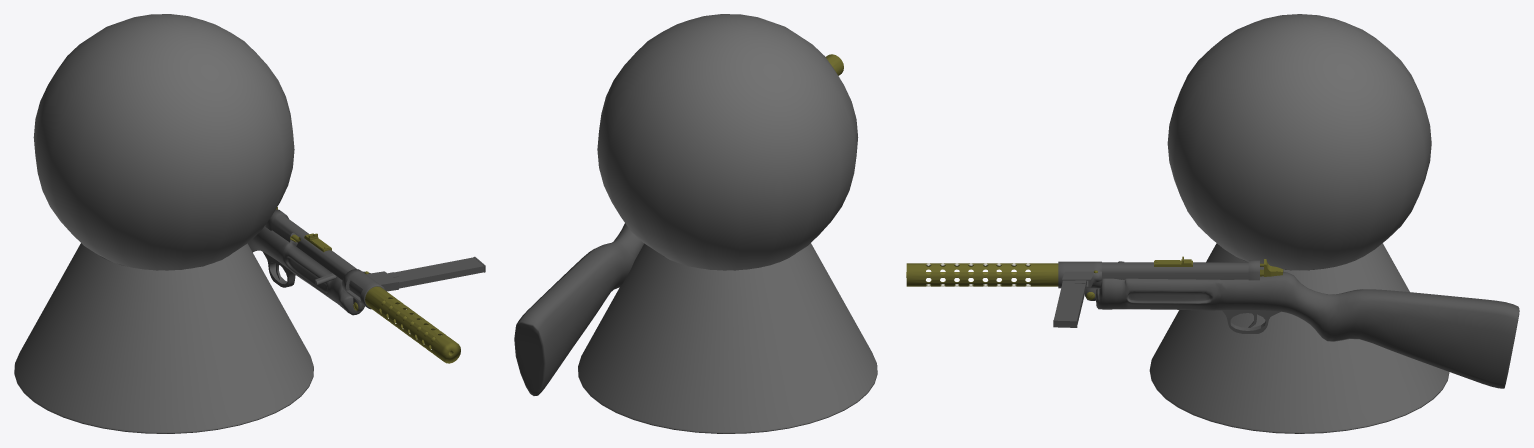
The model's file is Assault1_A.fbx.
The picture shows the model from 3 angles, left to right: view 1: azimuth 30°, elevation 25°; view 2: azimuth 150°, elevation 25°; view 3: azimuth 270°, elevation 25°; orthographic projection.
Visible parts, largest first — view 1: polySurface14; view 2: polySurface14; view 3: polySurface14.
Boxes of the visible parts, x1,y1,x2,y2 form: polySurface14: (14,14,485,433); polySurface14: (514,14,877,433); polySurface14: (906,14,1519,433).
Size of the model in its own units: 99.6 by 99.62 by 160.
